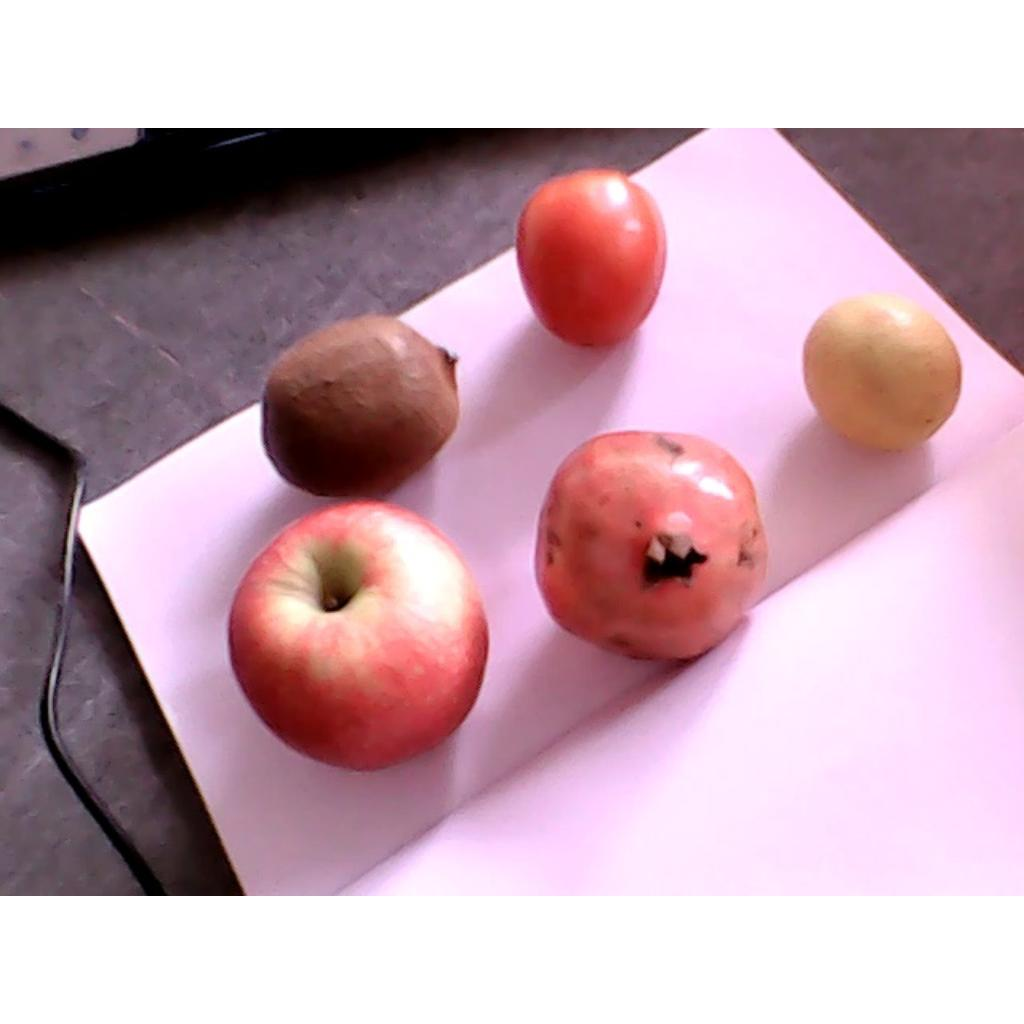apple: (228, 499, 489, 773)
kiwi: (262, 317, 460, 500)
lemon: (802, 297, 961, 453)
pomegranate: (534, 433, 768, 661)
tomato: (515, 168, 666, 353)
